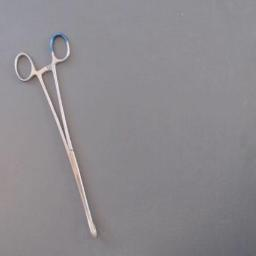Sponge Forceps: (9, 28, 103, 244)
